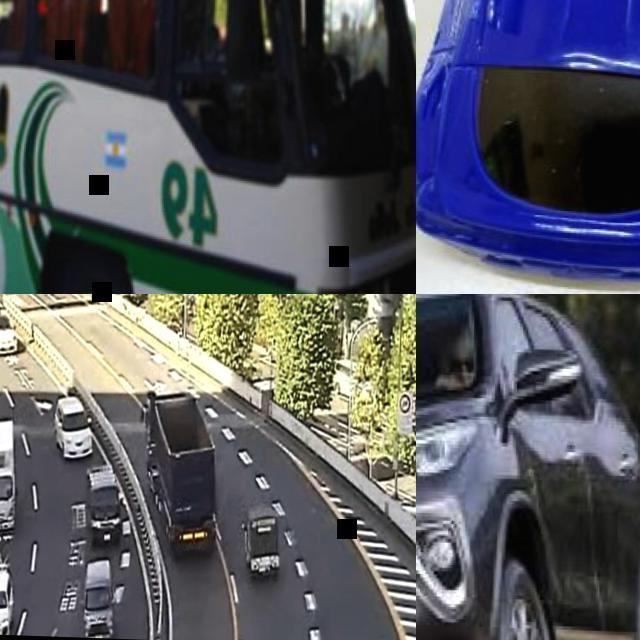car: (1, 375, 136, 639)
